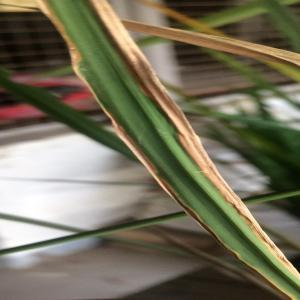Bacterial_Blight: (115, 40, 225, 254)
